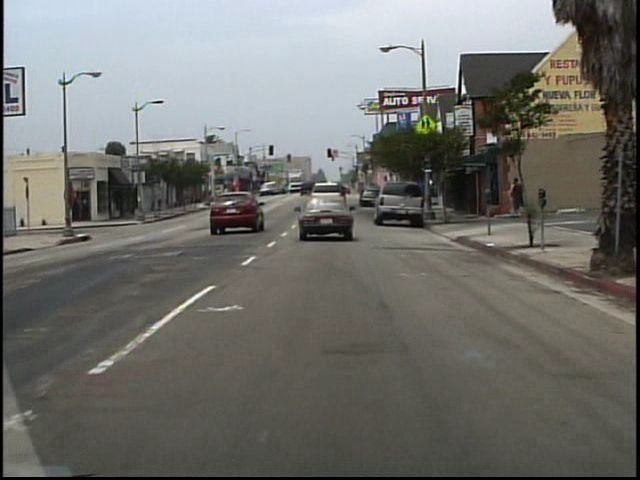person: (505, 182, 518, 219), (514, 177, 525, 217)
